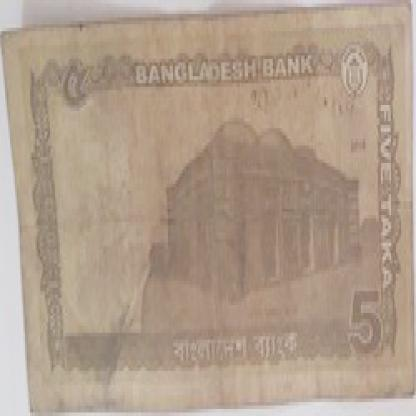Five Taka: (339, 278, 391, 367), (58, 45, 90, 125)
